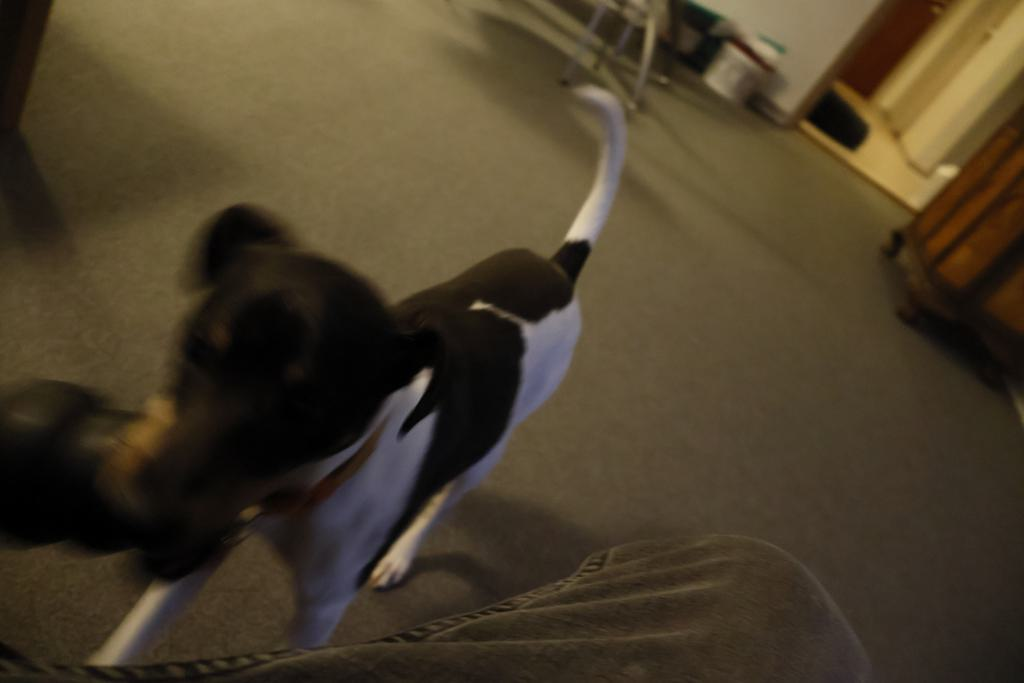Dog: (81, 72, 645, 675)
Humanoid: (0, 515, 891, 683)
